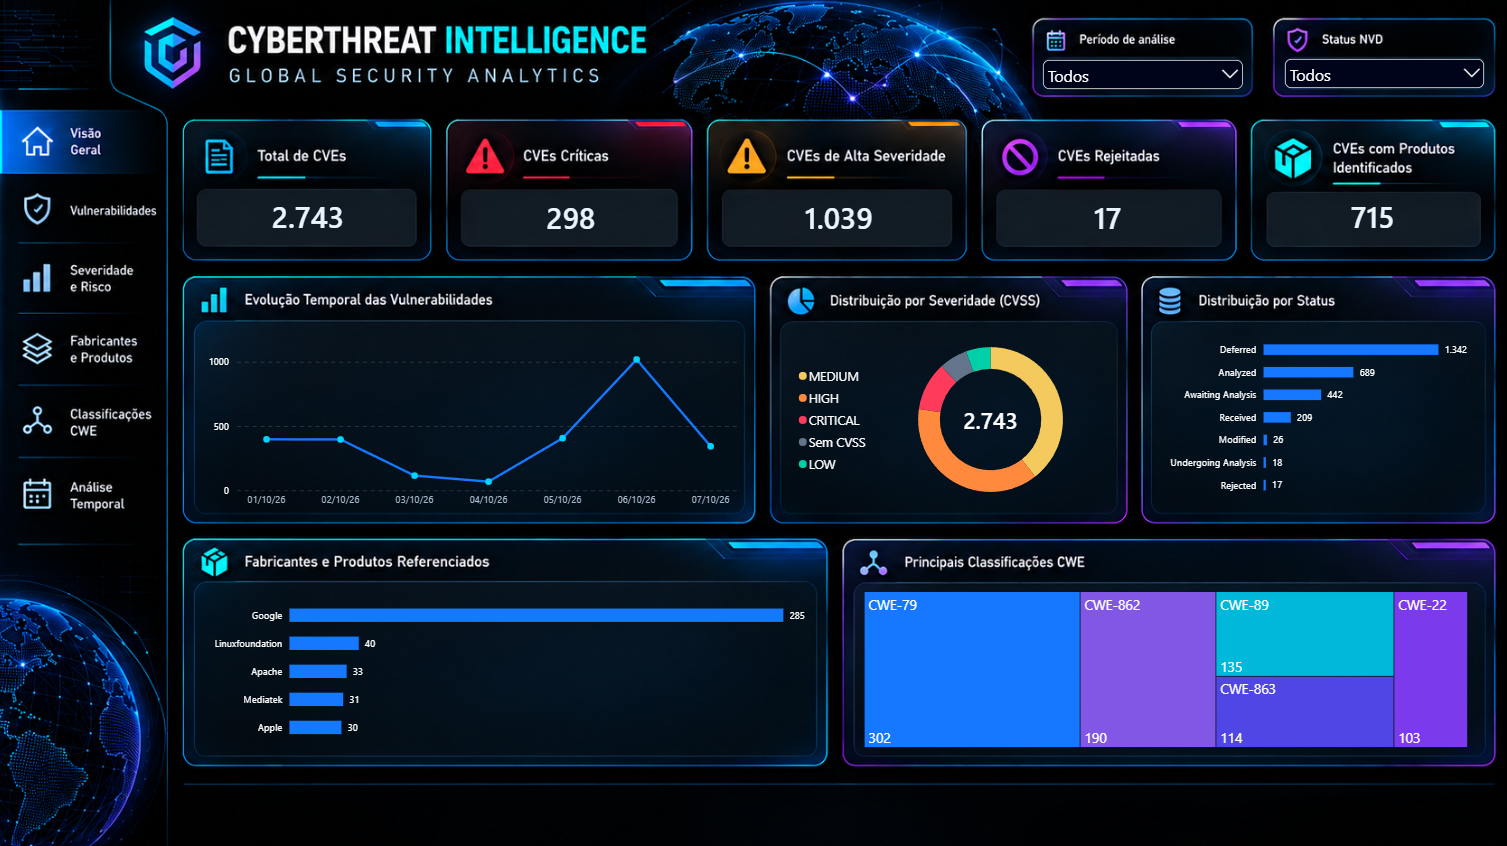

This screenshot's page, from the dashboard's own definition file:
{"tool":"powerbi","page":{"name":"Visão Geral","canvas":[1920,1080],"ordinal":0},"visuals":[{"type":"card","fields":{"Values":["_Medidas.Total CVEs"]},"box":[251.8,238.4,286.8,75.4],"z":0},{"type":"card","fields":{"Values":["_Medidas.CVEs Críticas"]},"box":[591.1,238.9,276.7,75.6],"z":1000},{"type":"card","fields":{"Values":["_Medidas.CVEs Alta Severidade"]},"box":[923.7,238.9,291.8,75.6],"z":2000},{"type":"card","fields":{"Values":["_Medidas.CVEs Rejeitadas"]},"box":[1265.8,238.4,291.8,75.6],"z":3000},{"type":"card","fields":{"Values":["_Medidas.CVEs com Produtos Identificados"]},"box":[1610.6,238.4,273.4,75.4],"z":4000},{"type":"lineChart","fields":{"Category":["dim_data.data"],"Y":["_Medidas.Total CVEs Evolução"]},"box":[252.5,403.7,707.5,260],"z":5000},{"type":"donutChart","fields":{"Category":["fato_vulnerabilidade.Severidade CVSS Exibição"],"Y":["_Medidas.Total CVEs"]},"box":[1000.8,403.7,426.3,260],"z":6000},{"type":"clusteredBarChart","fields":{"Category":["dim_status.status_nvd"],"Y":["_Medidas.Total CVEs"]},"box":[1466.1,403.6,418.1,247.4],"z":7000},{"type":"clusteredBarChart","fields":{"Category":["dim_produto.fabricante"],"Y":["_Medidas.Total CVEs"]},"box":[251.4,737,796.6,227.6],"z":8000},{"type":"treemap","fields":{"Group":["dim_cwe.cwe_codigo"],"Values":["_Medidas.Total CVEs"]},"box":[1086.5,737.8,797.6,227.5],"z":9000},{"type":"slicer","fields":{"Values":["dim_status.status_nvd"]},"box":[1631.5,70.1,263.3,128.4],"z":10000},{"type":"slicer","fields":{"Values":["dim_data.data"]},"box":[1323.6,70.9,263.6,128.2],"z":11000},{"type":"actionButton","box":[0,237.6,100.4,55.9],"z":12000},{"type":"actionButton","box":[10.2,322.7,81.3,66.1],"z":13000},{"type":"actionButton","box":[10.2,420.6,78.8,57.2],"z":14000},{"type":"actionButton","box":[0,513.3,88.9,59.7],"z":15000},{"type":"actionButton","box":[10,595,78.8,68.8],"z":15001}]}

Visuals, with their boxes in screenshot pixels (x1, y1, x2, y2), scaled from the page's 1920x1080 canvas onto the 1507x846 screenshot:
card - _Medidas.Total CVEs: Rect(198, 187, 423, 246)
card - _Medidas.CVEs Críticas: Rect(464, 187, 681, 246)
card - _Medidas.CVEs Alta Severidade: Rect(725, 187, 954, 246)
card - _Medidas.CVEs Rejeitadas: Rect(994, 187, 1223, 246)
card - _Medidas.CVEs com Produtos Identificados: Rect(1264, 187, 1479, 246)
lineChart - dim_data.data x _Medidas.Total CVEs Evolução: Rect(198, 316, 754, 520)
donutChart - fato_vulnerabilidade.Severidade CVSS Exibição x _Medidas.Total CVEs: Rect(786, 316, 1120, 520)
clusteredBarChart - dim_status.status_nvd x _Medidas.Total CVEs: Rect(1151, 316, 1479, 510)
clusteredBarChart - dim_produto.fabricante x _Medidas.Total CVEs: Rect(197, 577, 823, 756)
treemap - dim_cwe.cwe_codigo x _Medidas.Total CVEs: Rect(853, 578, 1479, 756)
slicer - dim_status.status_nvd: Rect(1281, 55, 1487, 155)
slicer - dim_data.data: Rect(1039, 56, 1246, 156)
actionButton: Rect(0, 186, 79, 230)
actionButton: Rect(8, 253, 72, 305)
actionButton: Rect(8, 329, 70, 374)
actionButton: Rect(0, 402, 70, 449)
actionButton: Rect(8, 466, 70, 520)
